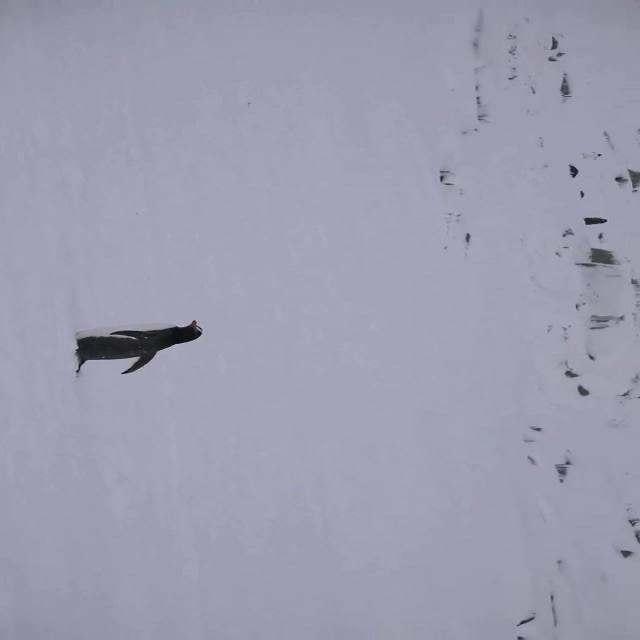penguin: (73, 320, 205, 377)
